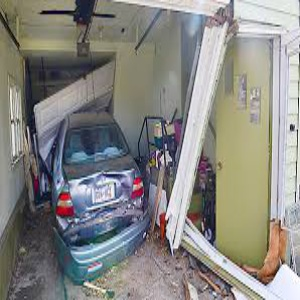bumper: (59, 204, 153, 279)
